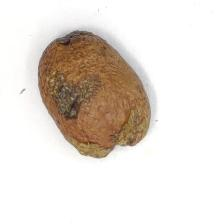NG: (40, 60, 102, 124), (117, 92, 150, 147), (60, 131, 116, 159), (53, 29, 102, 52)
